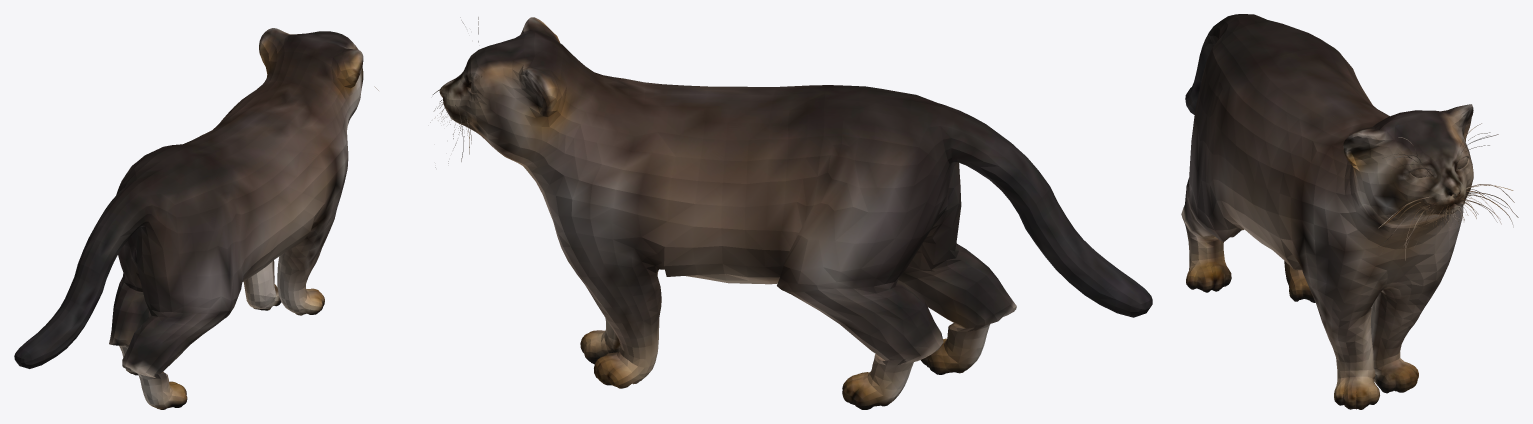
Rendered from pallascat.mesh.glb.
3 renders of one model, left to right at view 1: azimuth 30°, elevation 25°; view 2: azimuth 150°, elevation 25°; view 3: azimuth 270°, elevation 25°, orthographic. The views are drawn at different scales.
Visible parts, largest first — view 1: root; view 2: root; view 3: root.
Boxes of the visible parts, x1,y1,x2,y2 form: root: (14,28,378,409); root: (430,17,1152,409); root: (1181,14,1518,409).
Bounding box in the file's own units: 0.7736 × 0.4093 × 0.3926.
Materials: 1 (1 with a texture image).
